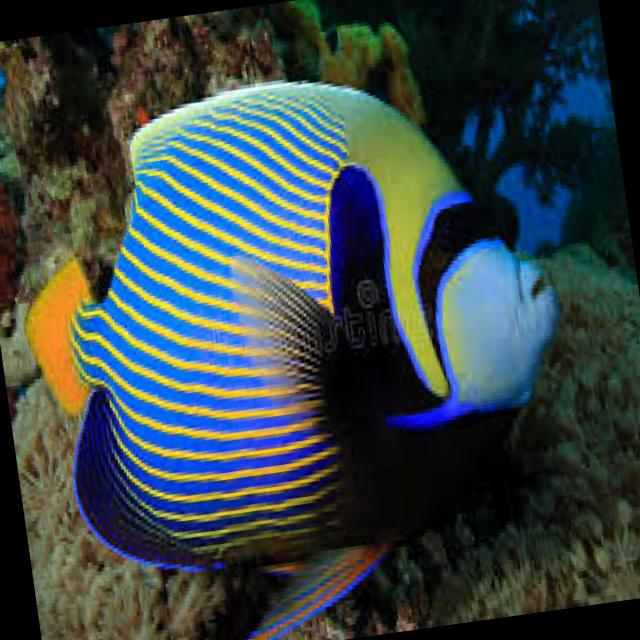AngelFish: (3, 52, 597, 640)
